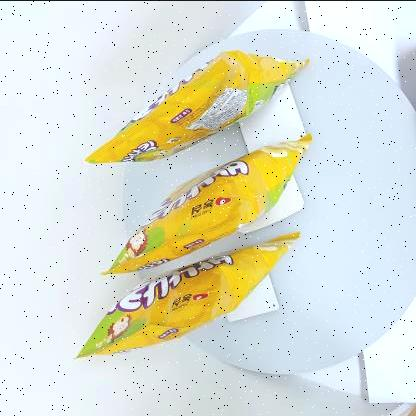Others: (68, 39, 316, 367)
